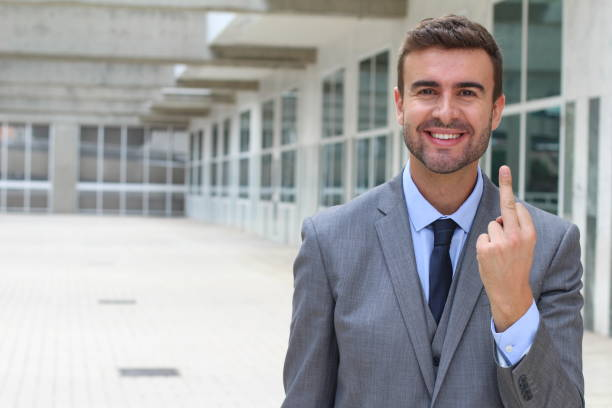insulting_gesture: (474, 165, 536, 295)
